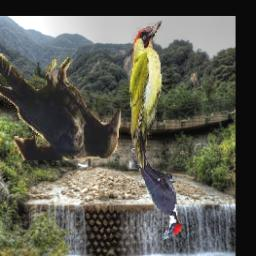Crow: (0, 53, 121, 160)
Woodpecker: (129, 21, 167, 169), (128, 146, 183, 241)
